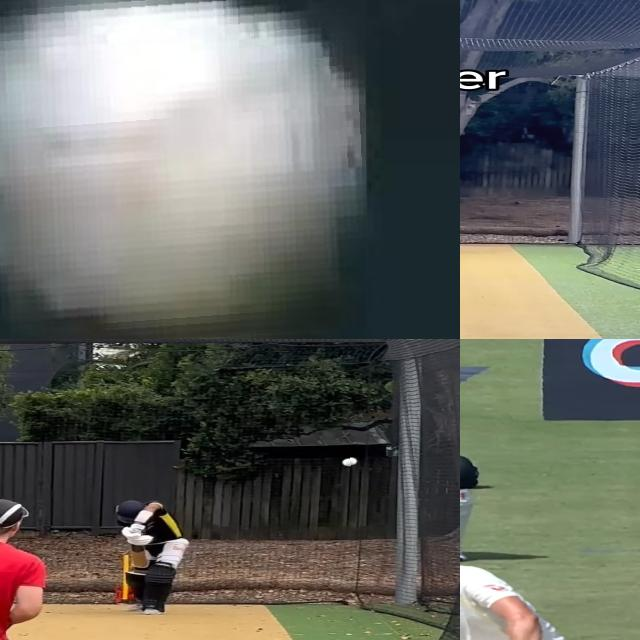Cricket ball: (0, 0, 365, 339), (343, 457, 359, 468)
